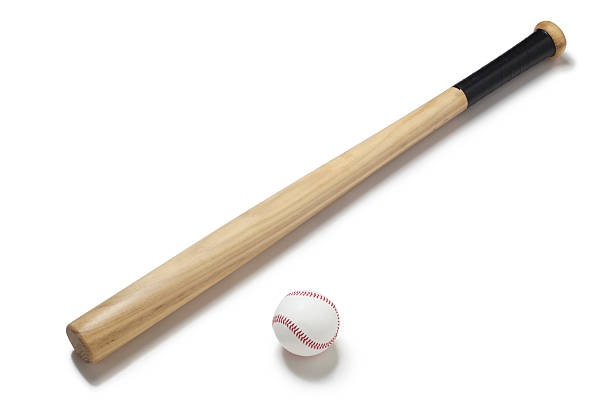bita: (67, 18, 567, 370)
